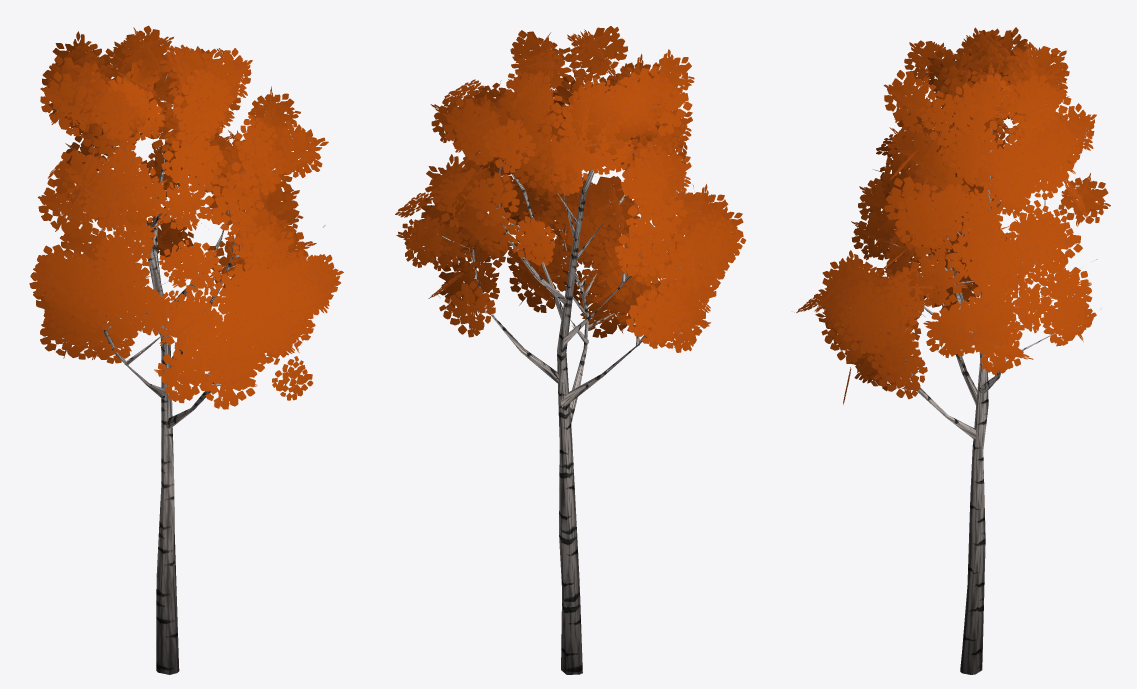
File: tree-health-4-mature.glb
3 views of the same model, side by side, from view 1: azimuth 30°, elevation 25°; view 2: azimuth 150°, elevation 25°; view 3: azimuth 270°, elevation 25° (orthographic). The views are drawn at different scales.
Visible parts, largest first — view 1: Birch_4; view 2: Birch_4; view 3: Birch_4.
Part boxes in pixels (x1,y1,x2,y2): Birch_4: (29, 25, 343, 674); Birch_4: (395, 26, 746, 674); Birch_4: (794, 27, 1110, 674).
Size of the model in its own units: 3.3 by 6.4 by 3.18.
Materials: 2 (2 with a texture image).
